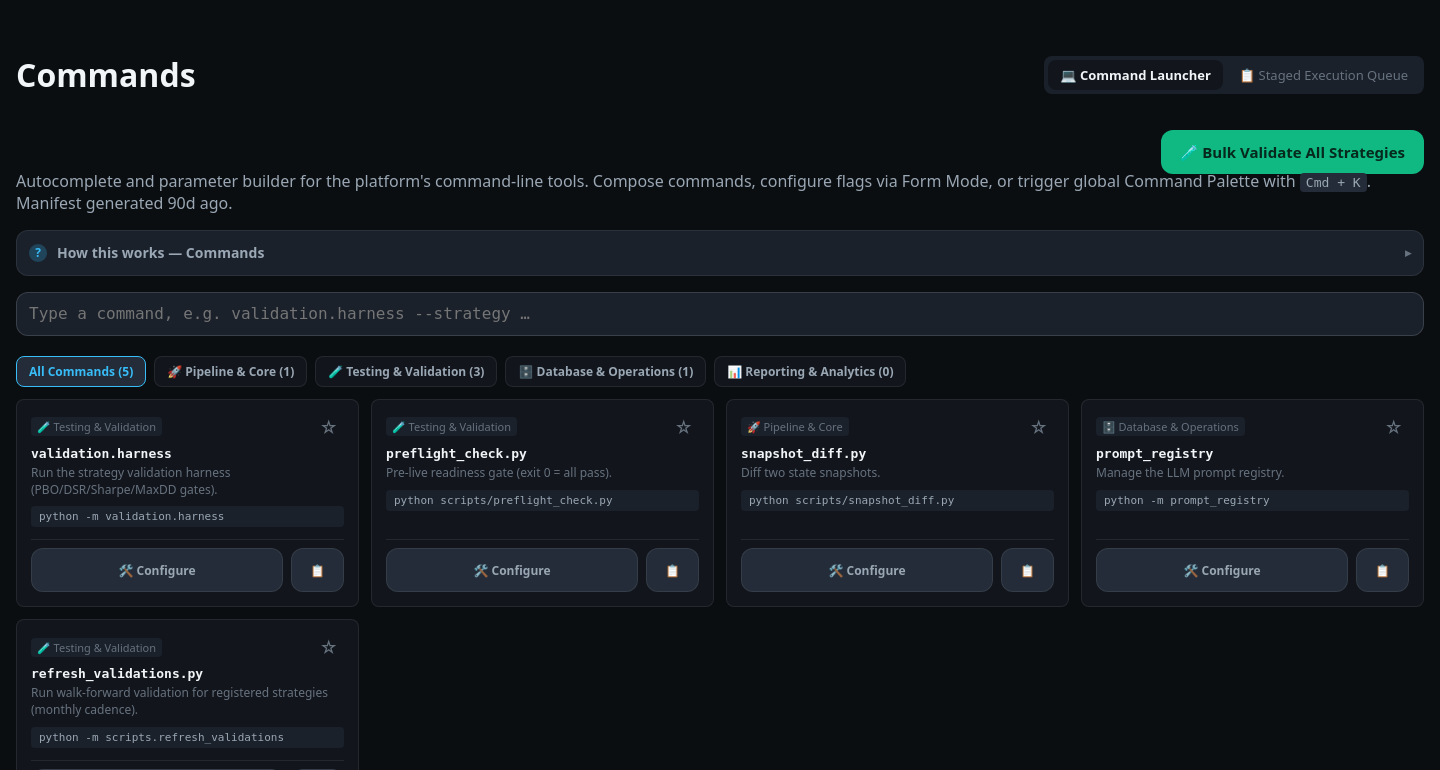
Test: Commands screen (real mock API) › flags a missing required option before submit
Expected: the text "validation.harness" is shown, [31, 446, 172, 461]
Type "validation.harness " into the dropdown with test id "command-bar-input" at (720, 314), box [16, 292, 1424, 336]
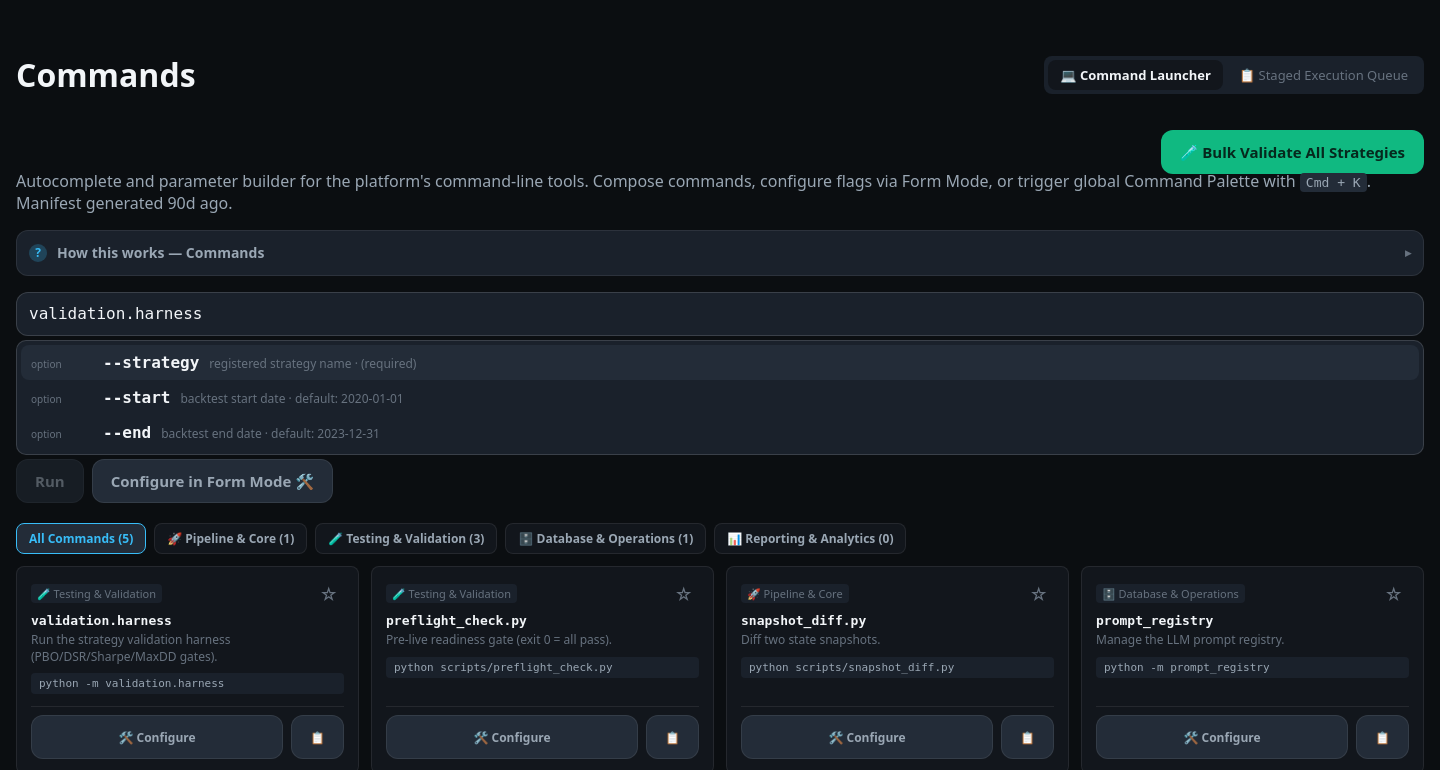
Result: the list item "✗ missing required option: --strategy" is shown at [16, 346, 242, 364]
